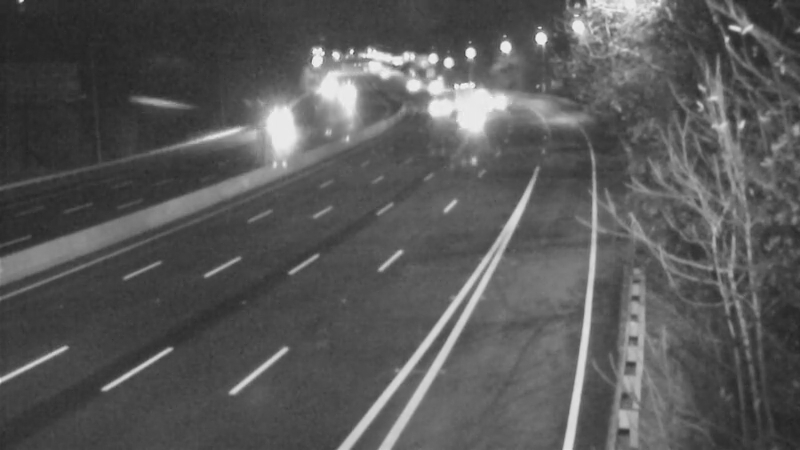vehicle: (383, 58, 433, 108), (408, 61, 458, 111), (441, 66, 491, 116), (469, 74, 519, 124), (419, 77, 469, 127), (444, 94, 494, 144), (252, 100, 302, 150), (324, 72, 374, 122)
